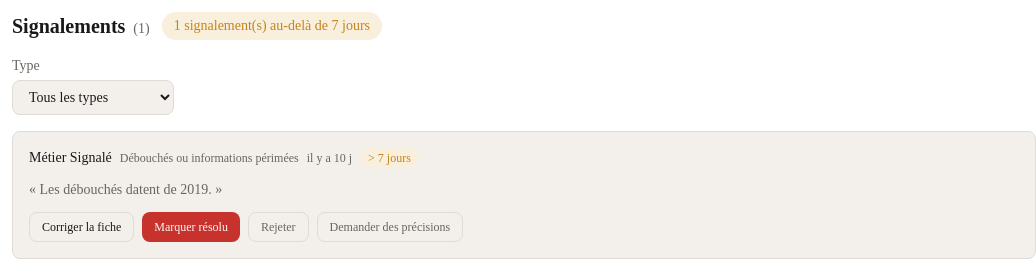
Test case: ReportsQueue › resolve refreshes the queue
The width and height of the screenshot is (1036, 276).
Expected: the text "Métier Signalé" is shown, [29,148,112,168]
Click the button "Marquer résolu" at {"x": 191, "y": 227}, box [142,212,240,242]
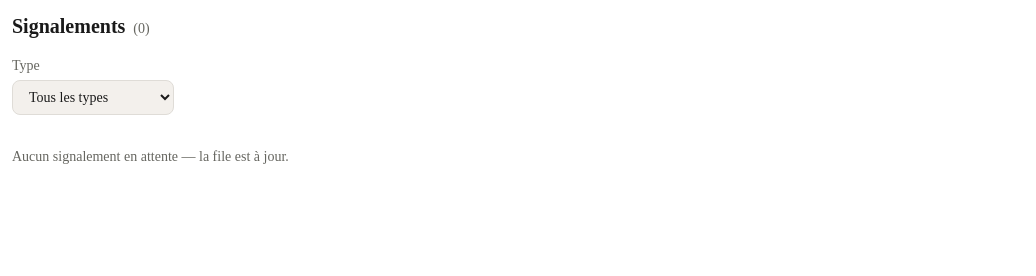
Expected: the text "Aucun signalement en attente — la file est à jour." is shown, [12,149,289,164]
